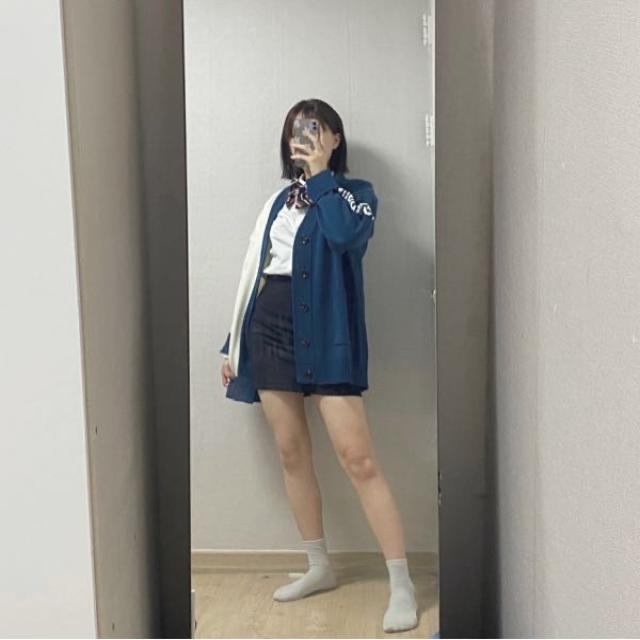cardigan: (223, 170, 379, 404)
skirt: (244, 275, 364, 399)
